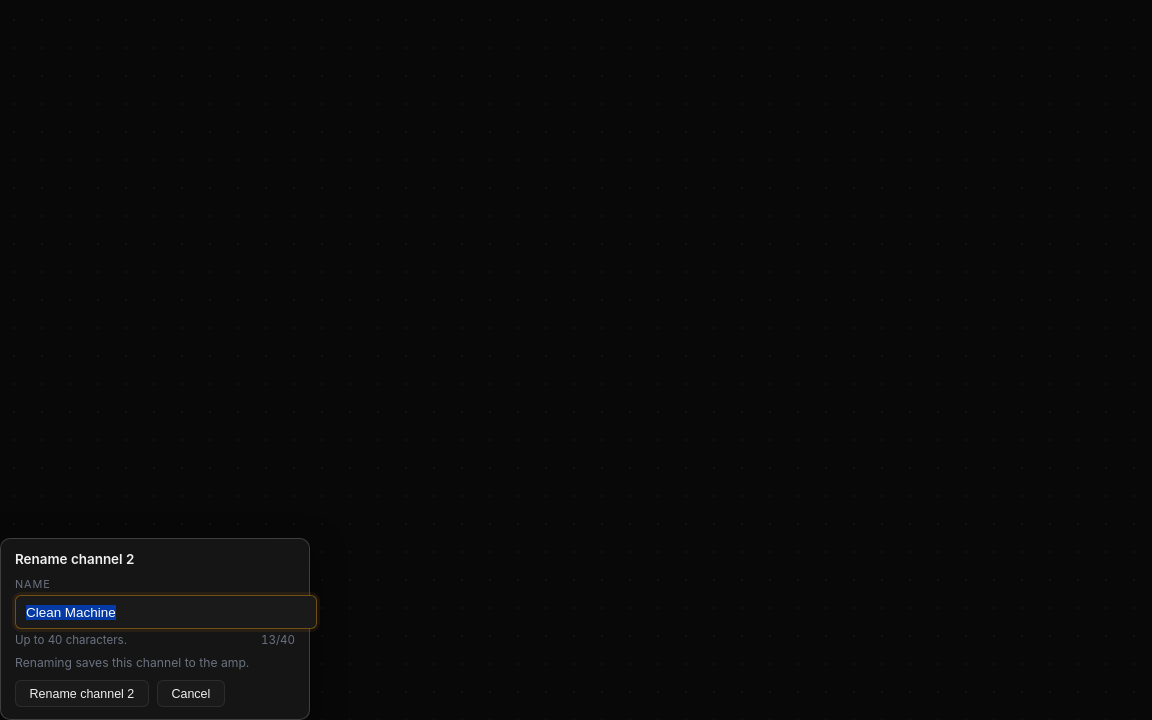
it: rename popover › channel mode › shows the mismatch result
(page scrolled)
Replace the text in the field labelled "Name" with "New Name": {"x": 166, "y": 612} [15,595,317,629]
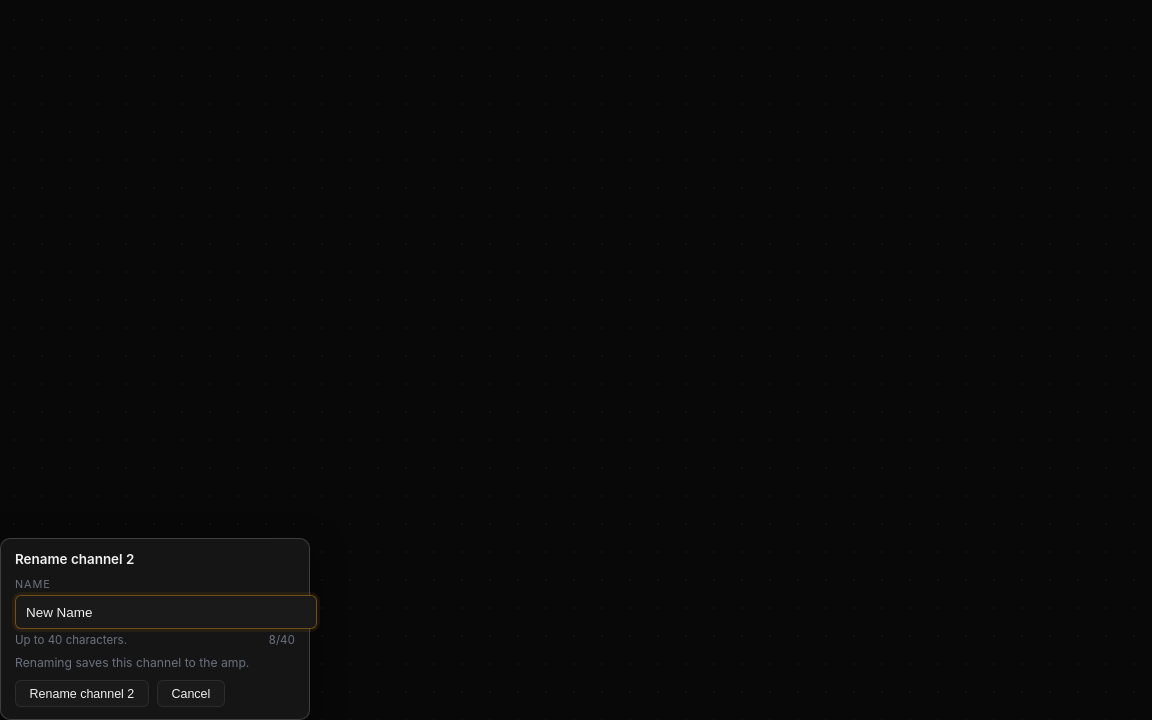
Click the button "Rename channel 2": {"x": 82, "y": 694} [15,680,149,707]
(page scrolled)
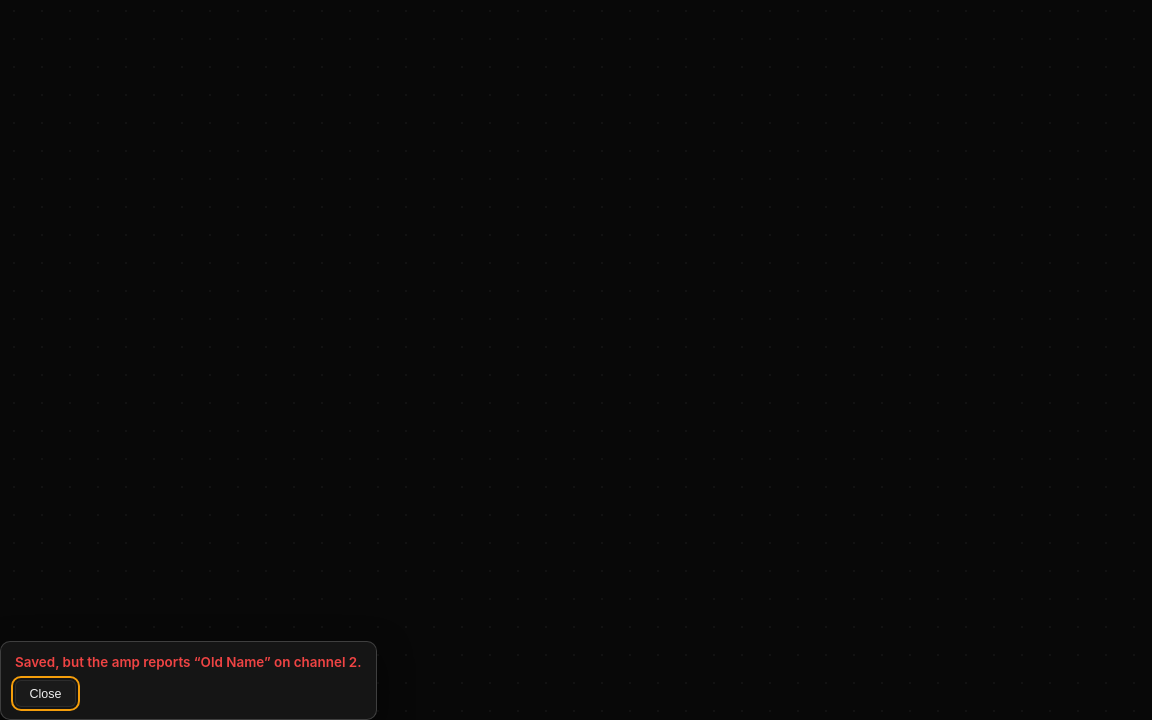
Now the message reads "Saved, but the amp reports “Old Name” on channel 2.", box [15,654,362,670]
